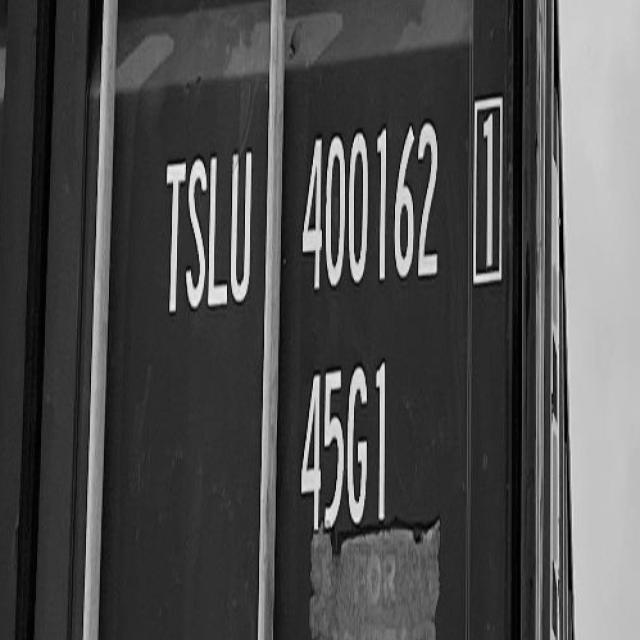dv: (465, 89, 517, 297)
owner: (142, 150, 262, 321)
serial: (288, 118, 458, 292)
size: (281, 350, 409, 534)
